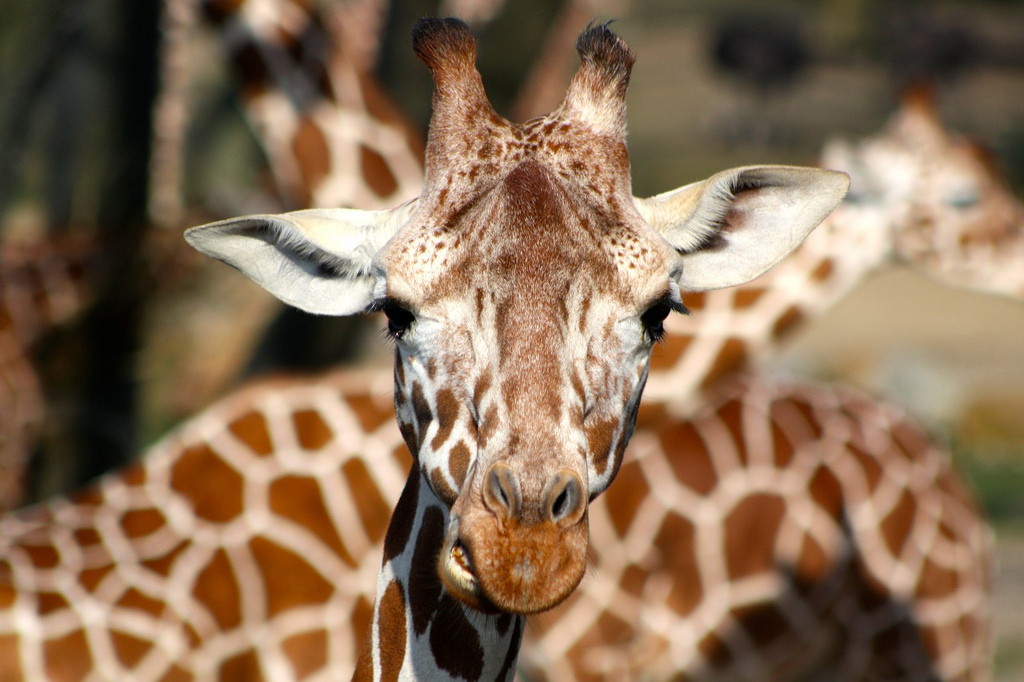giraffe: (156, 52, 859, 650)
